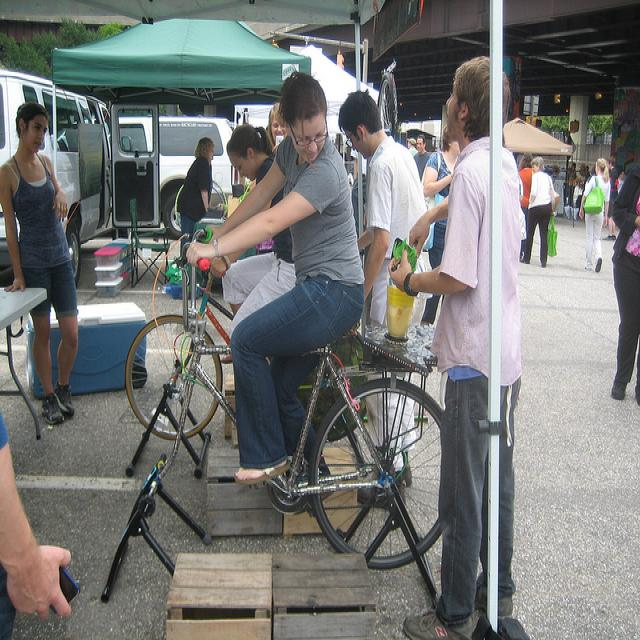Vehicle: (0, 74, 158, 288), (119, 118, 240, 237)
